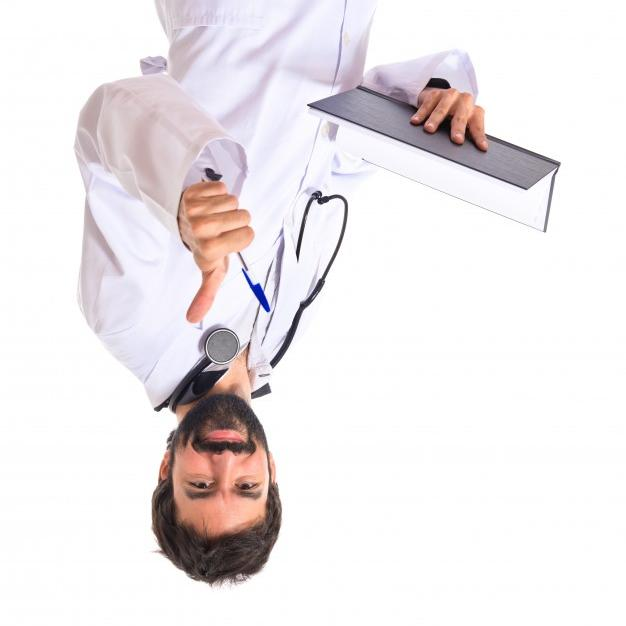thumbsdown: (183, 182, 255, 323)
